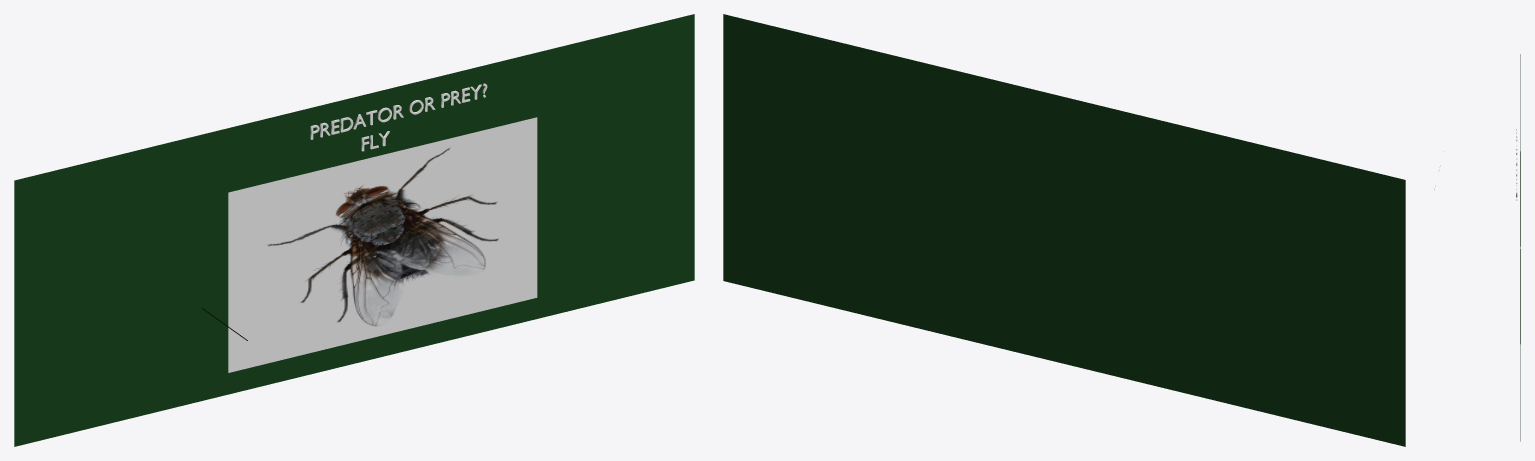
Rendered from fly.gltf.
3 views of the same model, side by side, from view 1: azimuth 30°, elevation 25°; view 2: azimuth 150°, elevation 25°; view 3: azimuth 270°, elevation 25° (orthographic). The views are drawn at different scales.
Parts seen in each view (by area): view 1: Plane.013, Plane, Text.008; view 2: Plane.013; view 3: Plane.013, Text.008.
Part boxes in pixels (x1=…): Plane.013: x1=14, y1=14, x2=694, y2=446; Plane: x1=228, y1=117, x2=537, y2=372; Text.008: x1=310, y1=83, x2=487, y2=139; Plane.013: x1=723, y1=14, x2=1405, y2=446; Plane.013: x1=1520, y1=54, x2=1520, y2=441; Text.008: x1=1516, y1=129, x2=1517, y2=200.
Size of the model in its own units: 15.94 by 5.96 by 2.43.
Materials: 5 (1 with a texture image).
